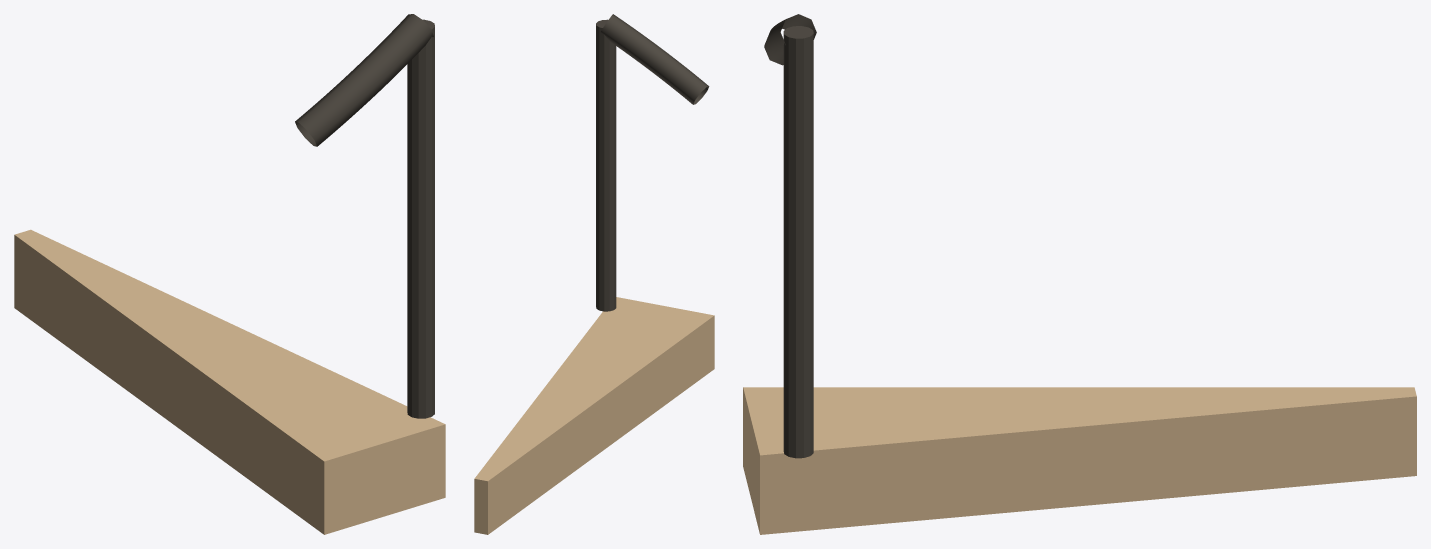
Rendered from castle-spiral-tread.glb.
The picture shows the model from 3 angles, left to right: view 1: azimuth 30°, elevation 25°; view 2: azimuth 150°, elevation 25°; view 3: azimuth 270°, elevation 25°; orthographic projection. The views are drawn at different scales.
Visible parts, largest first — view 1: Spiral stone tread (12 degrees, 0.2 metre rise, radius 1.77), Wrought iron outer post, Curved wrought iron handrail; view 2: Spiral stone tread (12 degrees, 0.2 metre rise, radius 1.77), Wrought iron outer post, Curved wrought iron handrail; view 3: Spiral stone tread (12 degrees, 0.2 metre rise, radius 1.77), Wrought iron outer post, Curved wrought iron handrail.
Part boxes in pixels (x1,y1,x2,y2): Spiral stone tread (12 degrees, 0.2 metre rise, radius 1.77): [14, 229, 445, 534]; Wrought iron outer post: [407, 19, 434, 418]; Curved wrought iron handrail: [295, 14, 433, 146]; Spiral stone tread (12 degrees, 0.2 metre rise, radius 1.77): [474, 297, 714, 534]; Wrought iron outer post: [596, 19, 616, 311]; Curved wrought iron handrail: [600, 14, 709, 104]; Spiral stone tread (12 degrees, 0.2 metre rise, radius 1.77): [743, 387, 1416, 534]; Wrought iron outer post: [783, 26, 813, 458]; Curved wrought iron handrail: [764, 14, 816, 65].
Size of the model in its own units: 0.4045 by 1.29 by 1.54.
